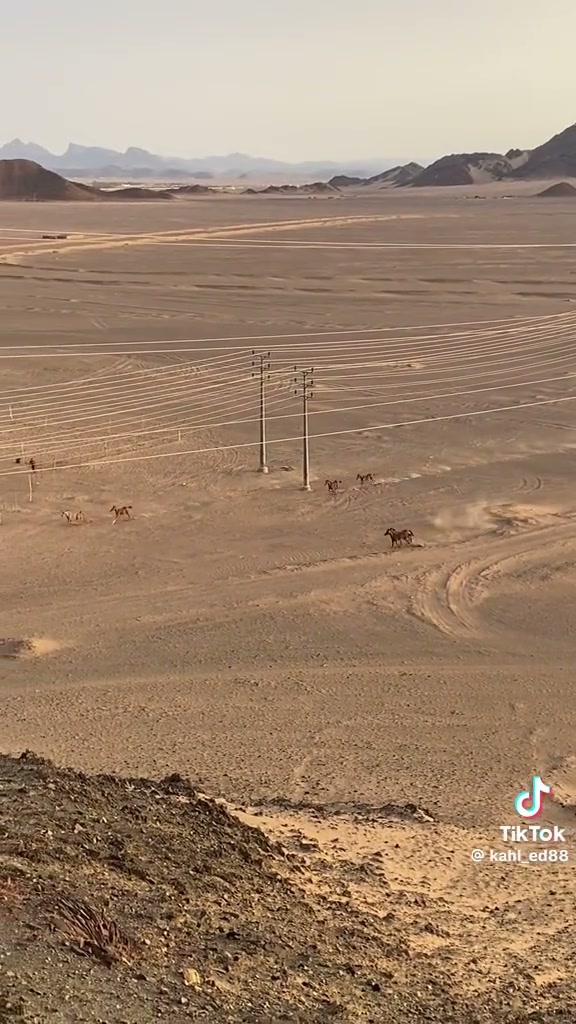animal: (385, 528, 413, 547), (110, 505, 131, 523), (61, 510, 84, 525), (325, 479, 341, 493), (356, 473, 373, 485), (28, 458, 35, 472)
vehicle_track: (410, 517, 575, 650)
